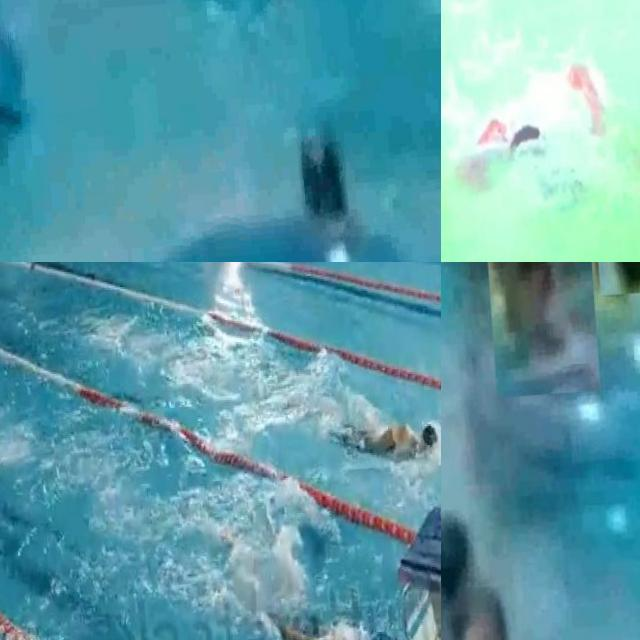drowning: (147, 125, 425, 262), (450, 38, 616, 208), (441, 495, 479, 612)
swimming: (485, 262, 600, 398), (332, 394, 439, 472), (263, 606, 390, 640), (445, 608, 519, 640), (590, 262, 640, 296)
